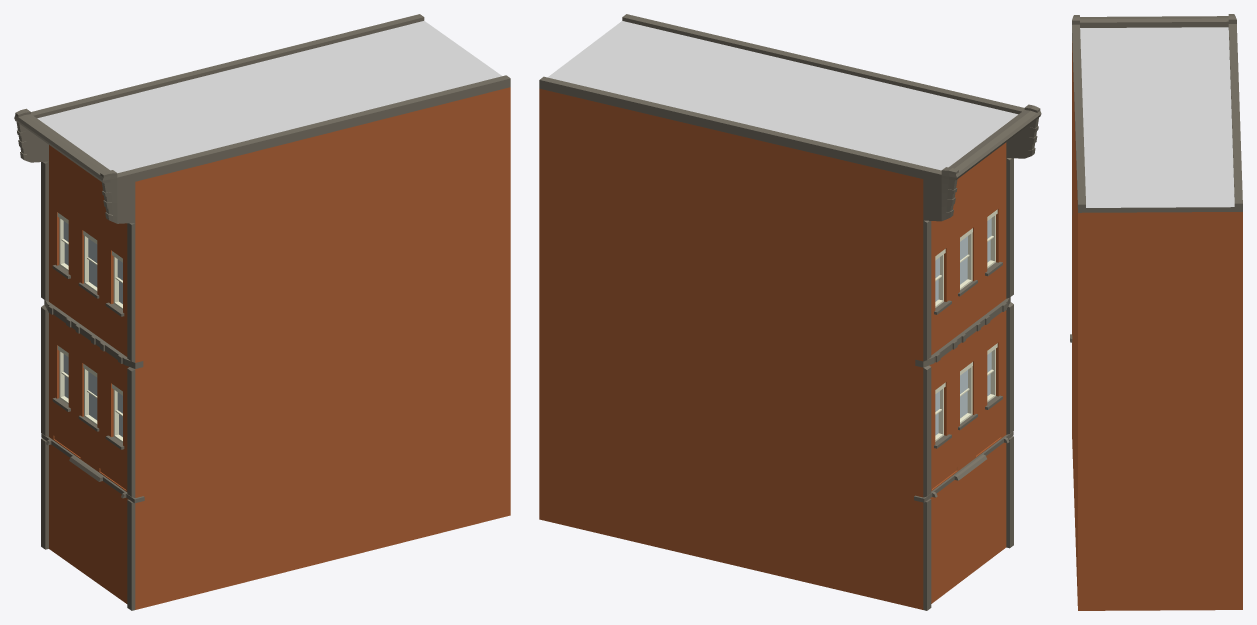
File: Building_3.fbx
3 renders of one model, left to right at view 1: azimuth 30°, elevation 25°; view 2: azimuth 150°, elevation 25°; view 3: azimuth 270°, elevation 25°, orthographic. The views are drawn at different scales.
Parts seen in each view (by area): view 1: Cube.038; view 2: Cube.038; view 3: Cube.038.
Boxes of the visible parts, <box> form: Cube.038: <box>14,14,510,610</box>; Cube.038: <box>539,14,1041,610</box>; Cube.038: <box>1070,14,1242,610</box>.
Bounding box in the file's own units: 1117 × 1144 × 436.
